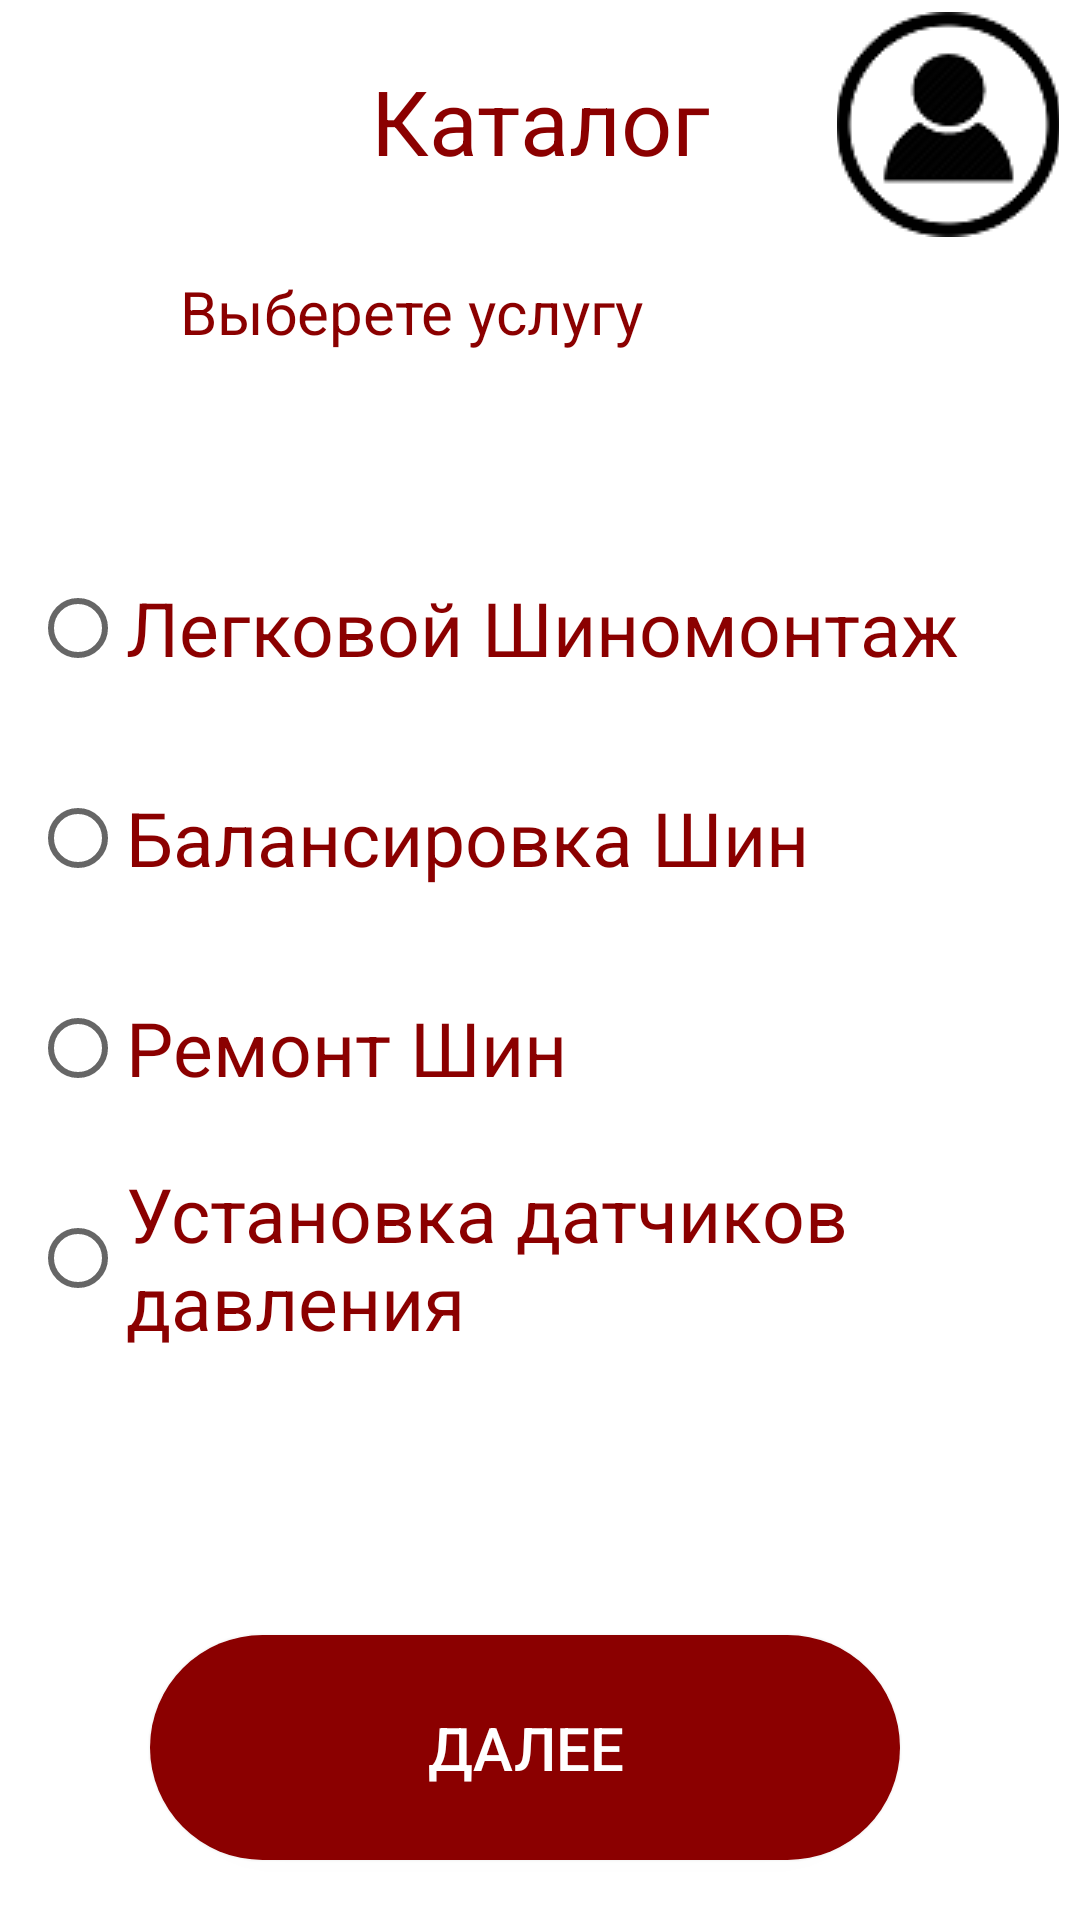

Where icons sit on this 1080*1920 app screen, as (x1, y1, x2, y2):
profile: (837, 12, 1059, 237)
